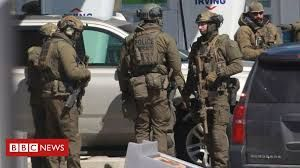gun: (190, 53, 211, 136), (61, 69, 88, 110)
uniform: (127, 28, 173, 151), (38, 36, 80, 161), (191, 36, 233, 158)
